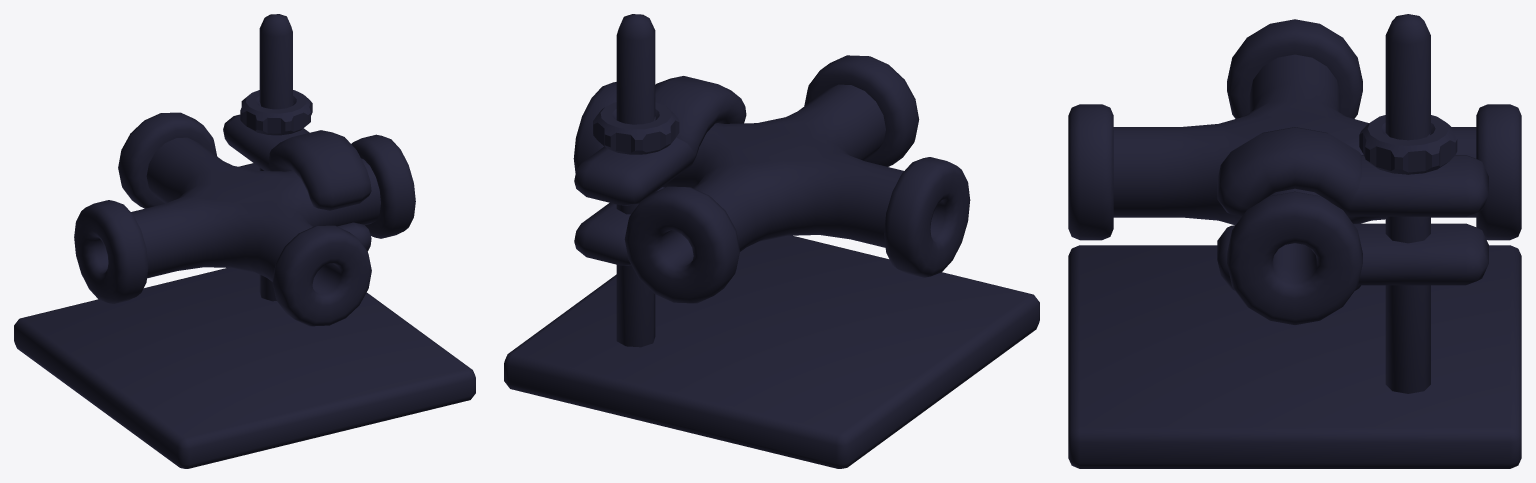
The model's file is Constructing_Pipe_Quad.fbx.
The picture shows the model from 3 angles, left to right: view 1: azimuth 30°, elevation 25°; view 2: azimuth 150°, elevation 25°; view 3: azimuth 270°, elevation 25°; orthographic projection. The views are drawn at different scales.
Visible parts, largest first — view 1: Stand_Base_Small001; view 2: Stand_Base_Small001; view 3: Stand_Base_Small001.
Part boxes in pixels (x1=…): Stand_Base_Small001: x1=14, y1=14, x2=475, y2=468; Stand_Base_Small001: x1=504, y1=14, x2=1039, y2=468; Stand_Base_Small001: x1=1068, y1=14, x2=1521, y2=468.
Bounding box in the file's own units: 100 × 100 × 100.
